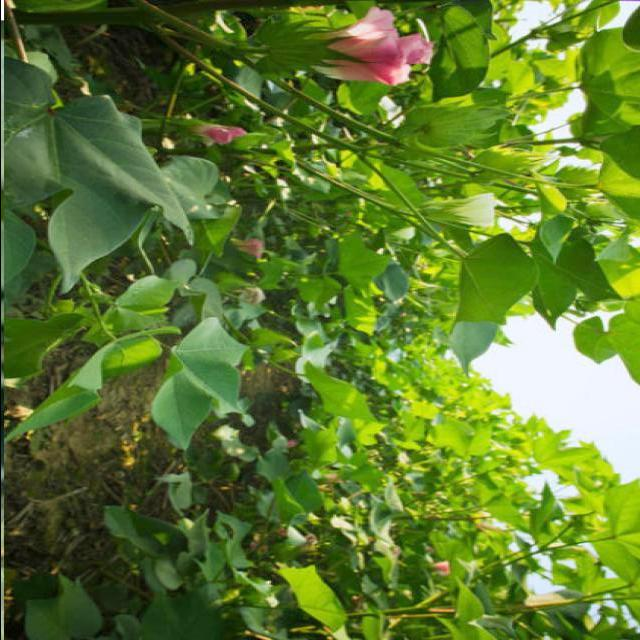Cotton Blossom: (270, 0, 434, 91), (401, 184, 507, 228)
Cotton Bud: (407, 94, 508, 152), (172, 114, 252, 156)
